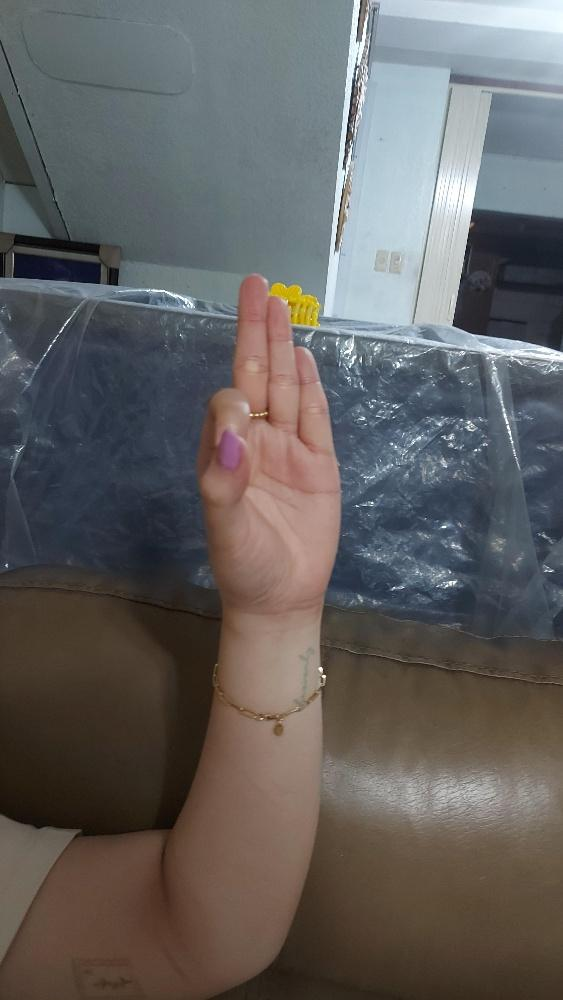f: (194, 271, 341, 617)
